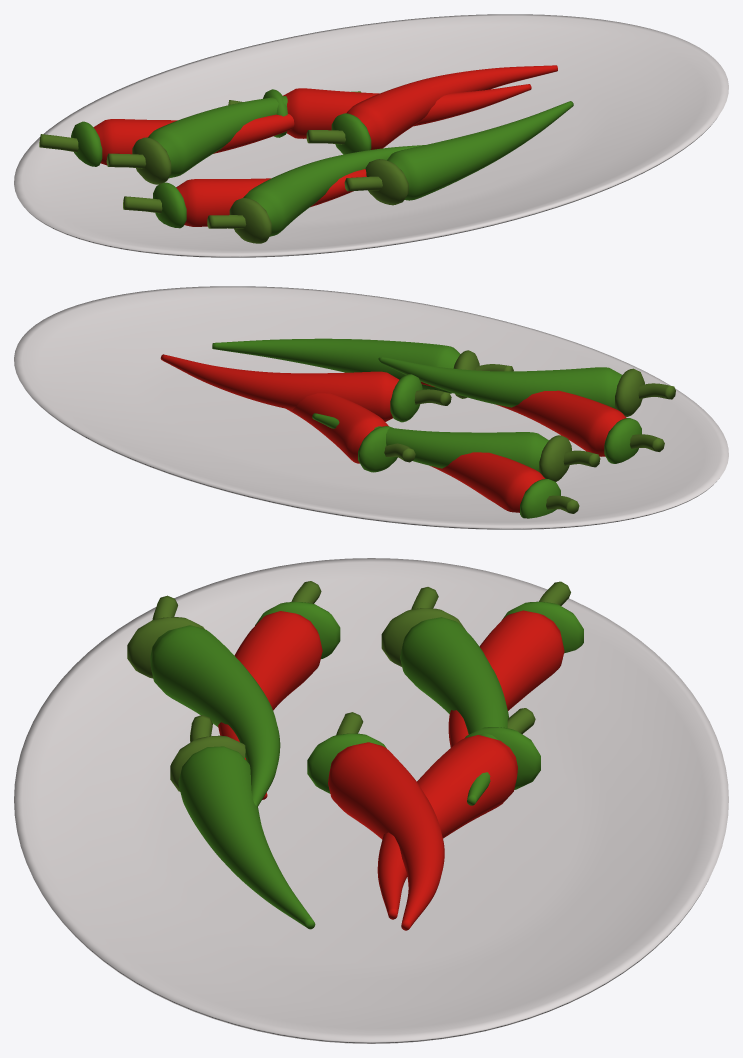
The model's file is qalampir.glb.
3 renders of one model, top to bottom at view 1: azimuth 30°, elevation 25°; view 2: azimuth 150°, elevation 25°; view 3: azimuth 270°, elevation 25°, orthographic. The views are drawn at different scales.
Parts seen in each view (by area): view 1: plate, pod6, pod5, pod3, pod1, pod4, pod0, pod2, cal6, cal3, cal1, cal5 (+8 smaller); view 2: plate, pod5, pod3, pod6, pod1, pod2, pod0, pod4, cal2, cal4, cal5, cal0 (+9 smaller); view 3: plate, pod3, pod5, pod6, pod1, pod4, pod0, pod2, cal3, cal4, cal5, cal1 (+3 smaller).
Part boxes in pixels (box(x1,y1,x2,y2)): plate: box(14, 14, 728, 257); pod6: box(387, 101, 573, 200); pod5: box(346, 65, 557, 149); pod3: box(243, 145, 424, 236); pod1: box(148, 91, 361, 178); pod4: box(283, 84, 531, 138); pod0: box(93, 114, 294, 165); pod2: box(176, 169, 366, 226); cal6: box(365, 159, 408, 205); cal3: box(229, 198, 271, 243); cal1: box(132, 137, 171, 184); cal5: box(331, 113, 371, 154); plate: box(14, 286, 728, 529); pod5: box(160, 354, 399, 421); pod3: box(378, 357, 622, 408); pod6: box(212, 338, 460, 393); pod1: box(312, 413, 548, 471); pod2: box(421, 382, 626, 456); pod0: box(430, 452, 545, 512); pod4: box(286, 393, 388, 463); cal2: box(604, 418, 641, 463); cal4: box(358, 426, 397, 472); cal5: box(390, 374, 422, 422); cal0: box(520, 478, 560, 518); plate: box(14, 558, 728, 1043); pod3: box(150, 625, 280, 807); pod5: box(328, 742, 444, 930); pod6: box(178, 746, 315, 929); pod1: box(400, 617, 508, 805); pod4: box(377, 735, 517, 919); pod0: box(448, 610, 564, 747); pod2: box(218, 611, 322, 799); cal3: box(127, 617, 204, 678); cal4: box(465, 727, 540, 789); cal5: box(307, 733, 386, 793); cal1: box(381, 608, 465, 666).
Bounding box in the file's own units: 1.08 × 0.0915 × 0.675.
